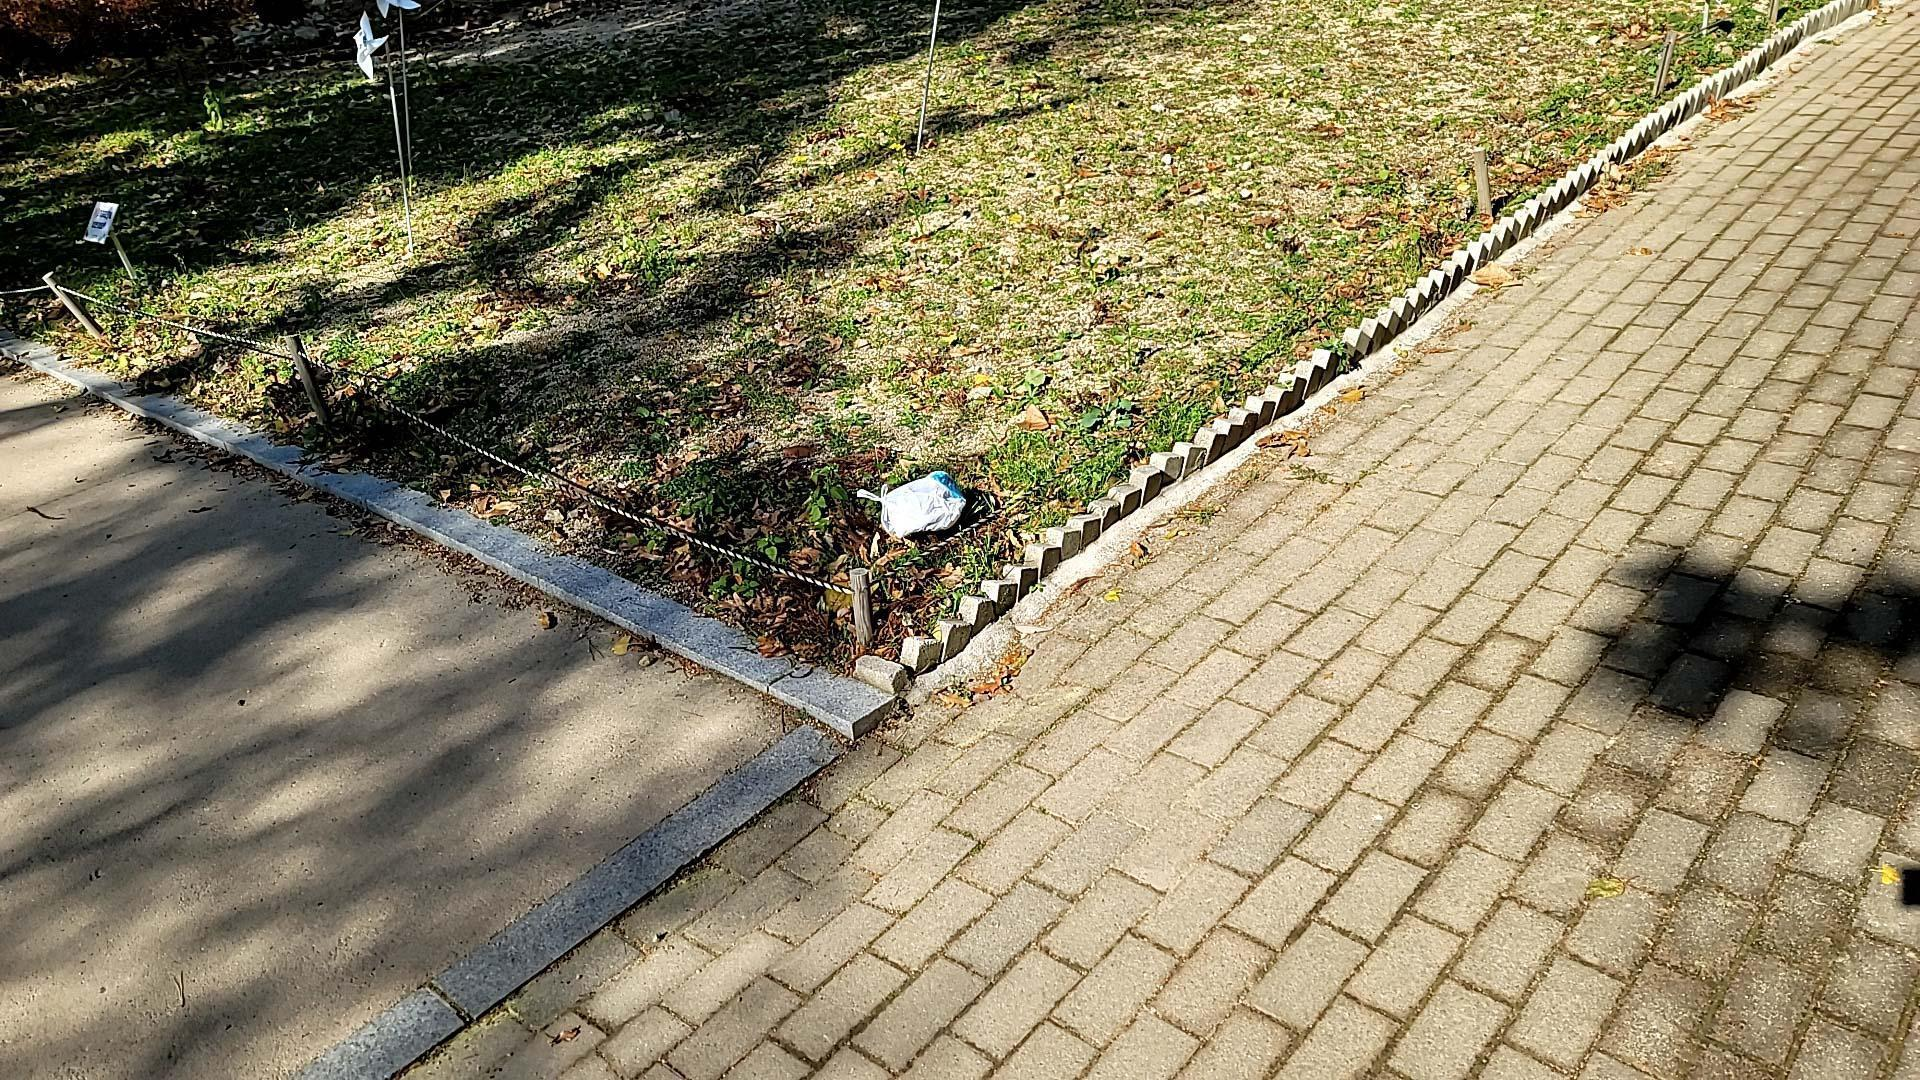white_bag: (851, 465, 967, 539)
